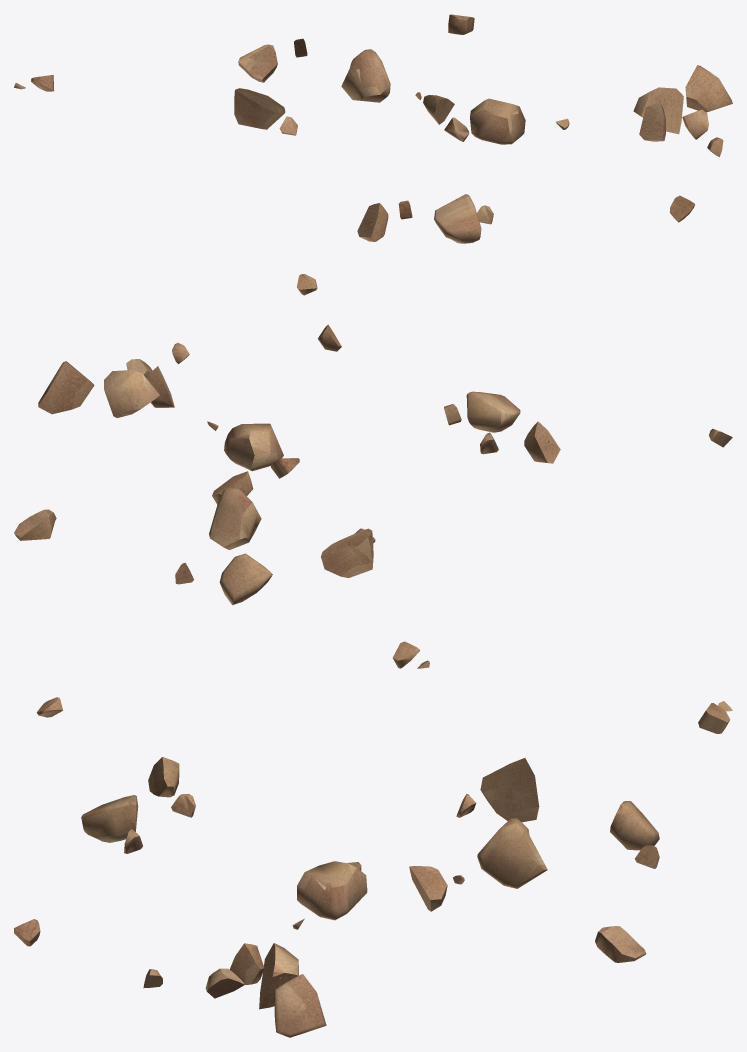
The picture shows the model from 3 angles, top to bottom: view 1: azimuth 30°, elevation 25°; view 2: azimuth 150°, elevation 25°; view 3: azimuth 270°, elevation 25°; orthographic projection. The views are drawn at different scales.
Parts seen in each view (by area): view 1: body0_model0_lod0_mesh0; view 2: body0_model0_lod0_mesh0; view 3: body0_model0_lod0_mesh0.
Part boxes in pixels (x1,y1,x2,y2): body0_model0_lod0_mesh0: (14,14,732,295); body0_model0_lod0_mesh0: (14,324,732,668); body0_model0_lod0_mesh0: (14,697,732,1037).
Size of the model in its own units: 297 by 30.06 by 287.
1 material, 1 textured.
